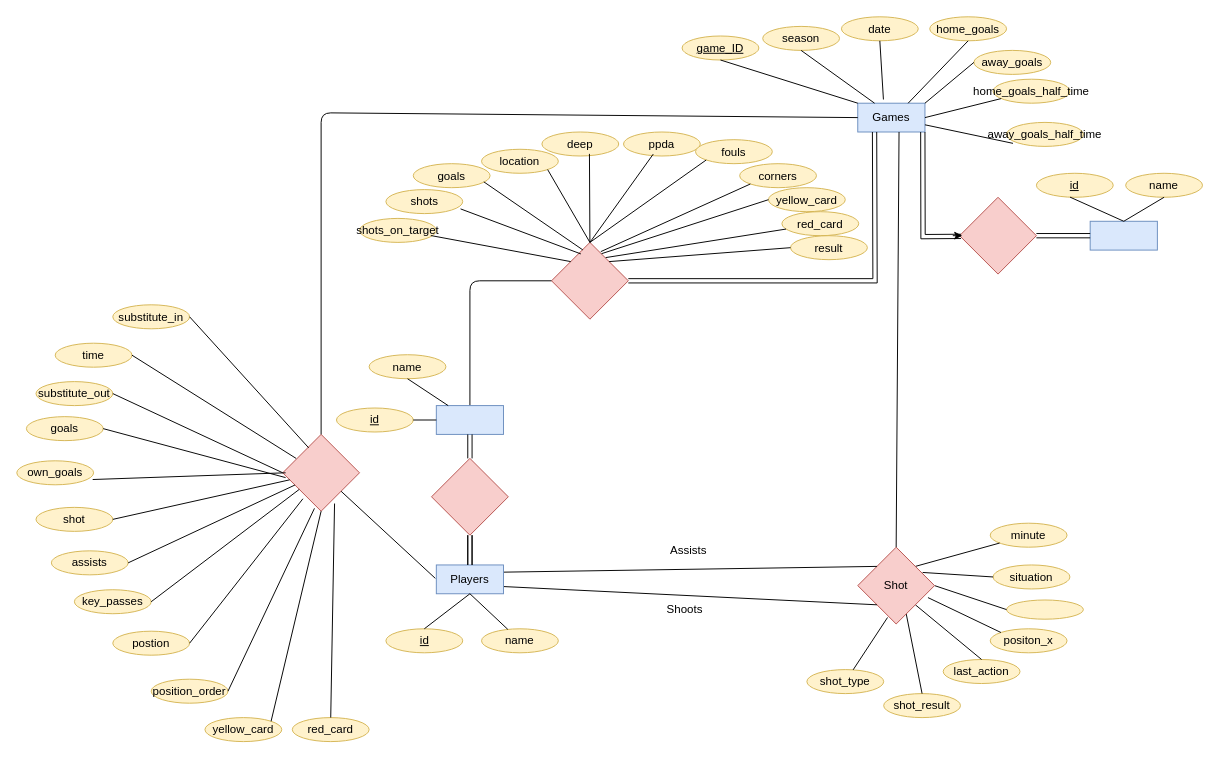
Image size: 1220x758. Some labels were removed from this diagram. Each missing label, with the centre of its shape:
"Belongs_to" belongs at point 997,235.
"Leagues" belongs at point 1123,235.
"Player_stats_ on_game" belongs at point 321,472.
"Plays for" belongs at point 469,496.
"position_y" belongs at point 1044,609.
"Team_stats_ on_game" belongs at point 589,280.
"Teams" belongs at point 469,419.
